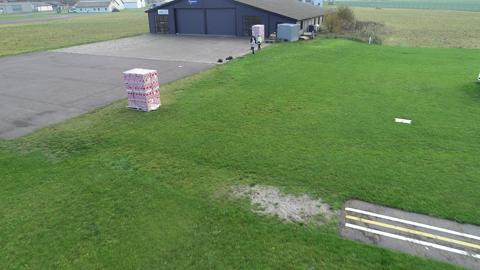RockwoolPallet: (123, 67, 162, 113)
